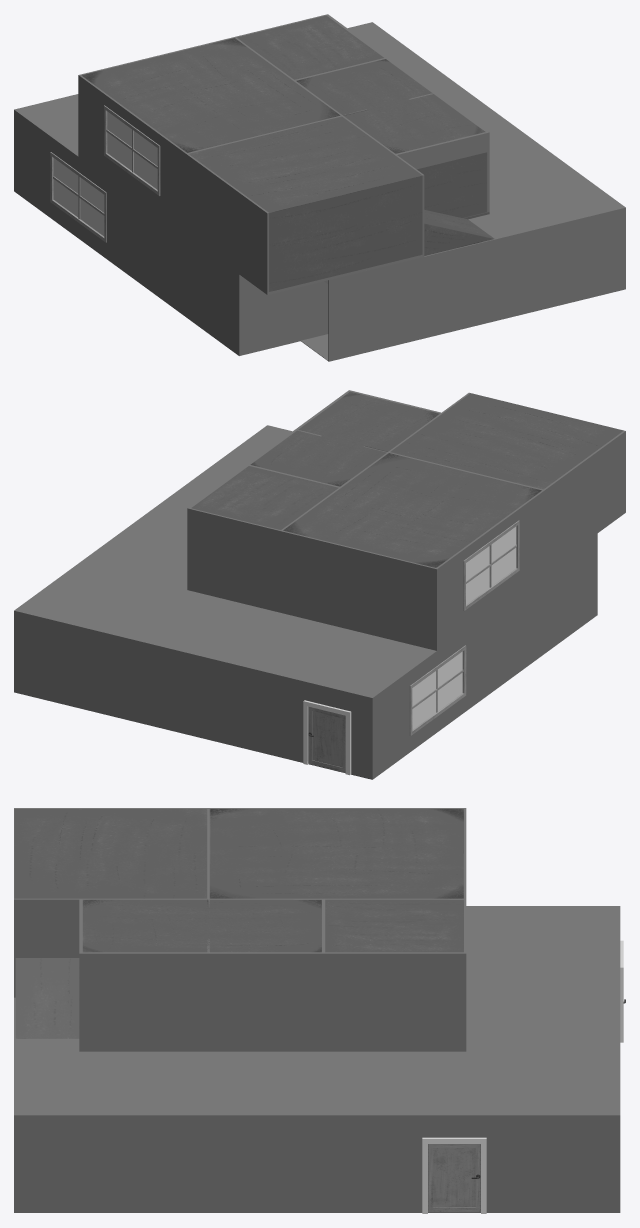
The model's file is House.fbx.
3 views of the same model, one above another, from view 1: azimuth 30°, elevation 25°; view 2: azimuth 150°, elevation 25°; view 3: azimuth 270°, elevation 25° (orthographic). The views are drawn at different scales.
Visible parts, largest first — view 1: UpStairs, Downstairs, WindowFrame.001, WindowFrame; view 2: UpStairs, Downstairs, WindowFrame.001, WindowFrame, Door.008, DoorFrame.008; view 3: Downstairs, UpStairs, Door.007, DoorFrame.007.
Part boxes in pixels (x1=…): UpStairs: x1=78, y1=14, x2=494, y2=294; Downstairs: x1=14, y1=22, x2=625, y2=361; WindowFrame.001: x1=50, y1=152, x2=106, y2=242; WindowFrame: x1=104, y1=105, x2=160, y2=195; UpStairs: x1=187, y1=390, x2=625, y2=650; Downstairs: x1=14, y1=425, x2=597, y2=779; WindowFrame.001: x1=409, y1=645, x2=466, y2=735; WindowFrame: x1=463, y1=520, x2=519, y2=610; Door.008: x1=308, y1=706, x2=345, y2=772; DoorFrame.008: x1=303, y1=700, x2=351, y2=775; Downstairs: x1=14, y1=906, x2=620, y2=1212; UpStairs: x1=14, y1=808, x2=466, y2=1051; Door.007: x1=428, y1=1144, x2=480, y2=1212; DoorFrame.007: x1=422, y1=1137, x2=486, y2=1213.
Size of the model in its own units: 2368 by 1018 by 2886.
Materials: 8 (6 with a texture image).
